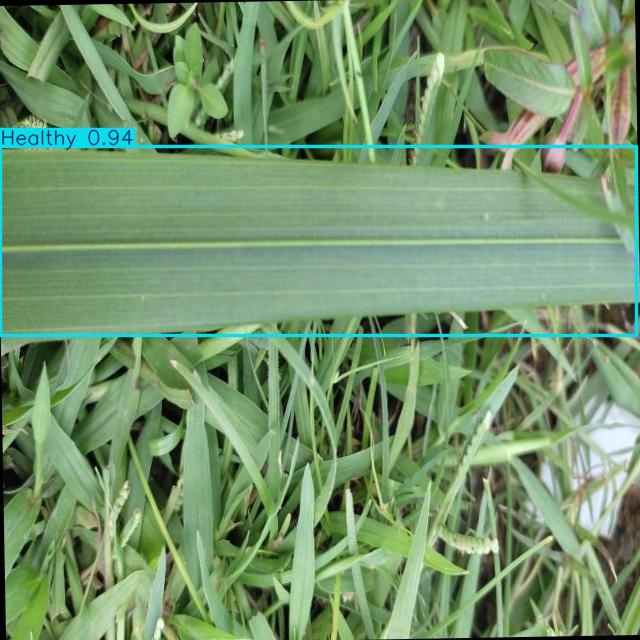Healthy: (0, 147, 636, 335)
